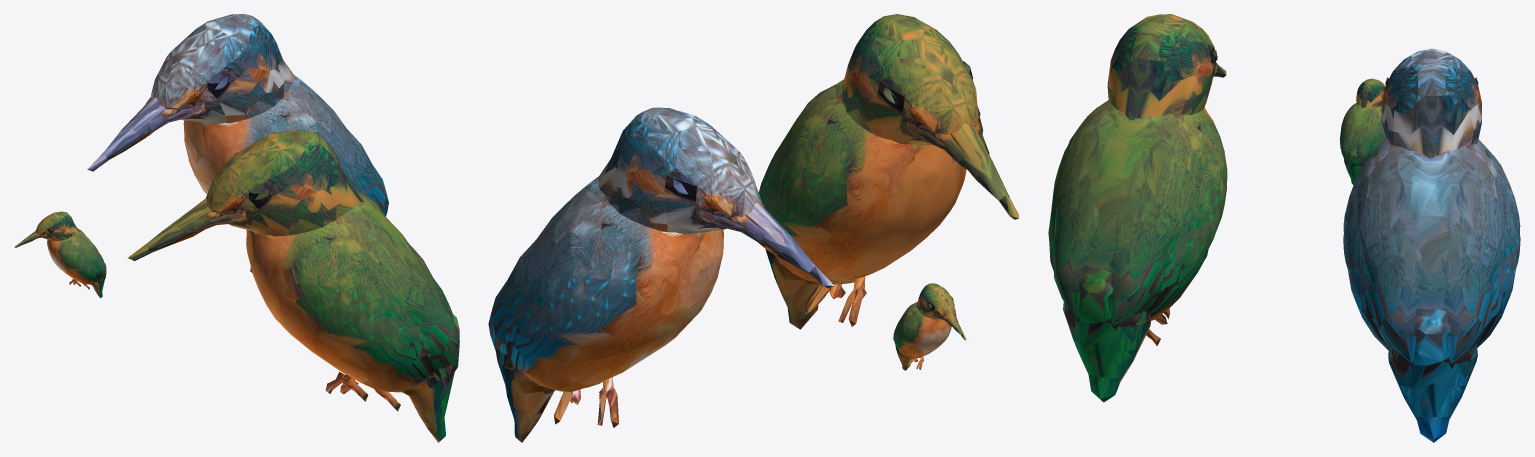
The model's file is kingfisher.fbx.
3 renders of one model, left to right at view 1: azimuth 30°, elevation 25°; view 2: azimuth 150°, elevation 25°; view 3: azimuth 270°, elevation 25°, orthographic. The views are drawn at different scales.
Parts seen in each view (by area): view 1: female, male, child; view 2: male, female, child; view 3: female, male, child.
Boxes of the visible parts, x1,y1,x2,y2 form: female: [128, 130, 459, 442]; male: [87, 14, 388, 272]; child: [14, 211, 106, 298]; male: [488, 107, 834, 442]; female: [758, 14, 1019, 329]; child: [893, 283, 966, 370]; female: [1048, 14, 1227, 402]; male: [1343, 48, 1520, 442]; child: [1339, 78, 1384, 184].
Bounding box in the file's own units: 218 × 172 × 228.
Materials: 3 (3 with a texture image).
